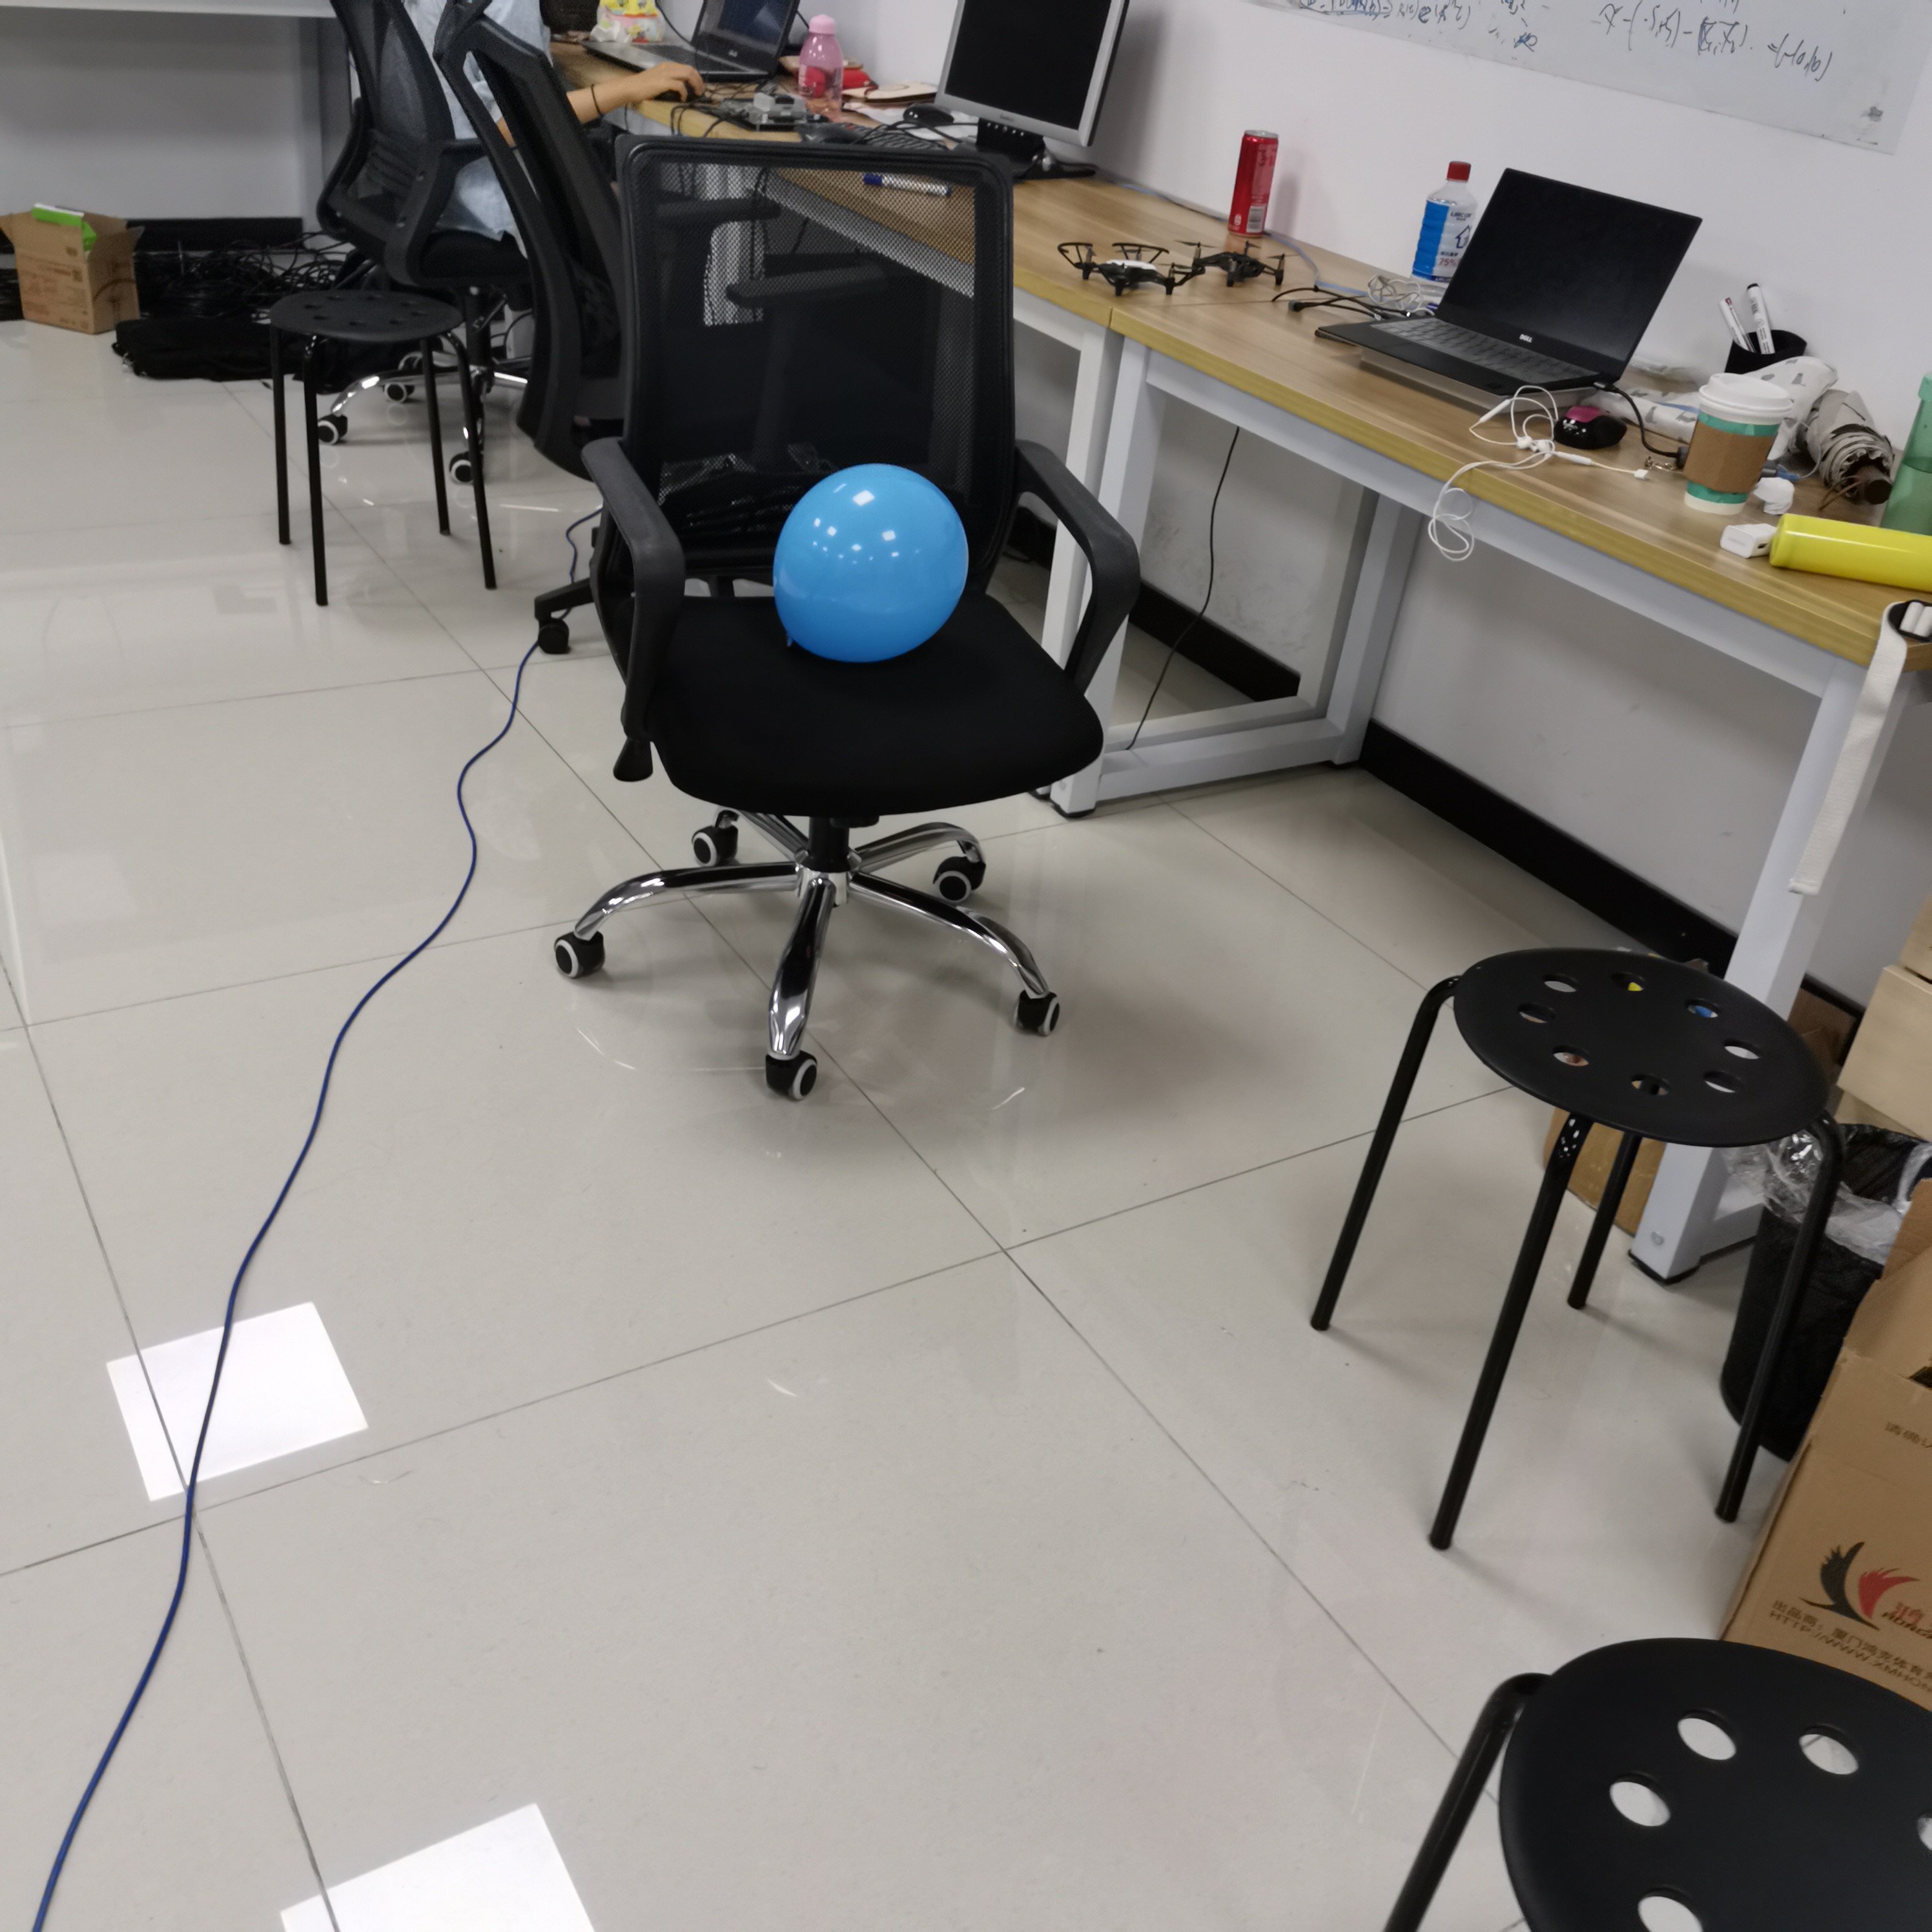balloon: (771, 462, 971, 665)
